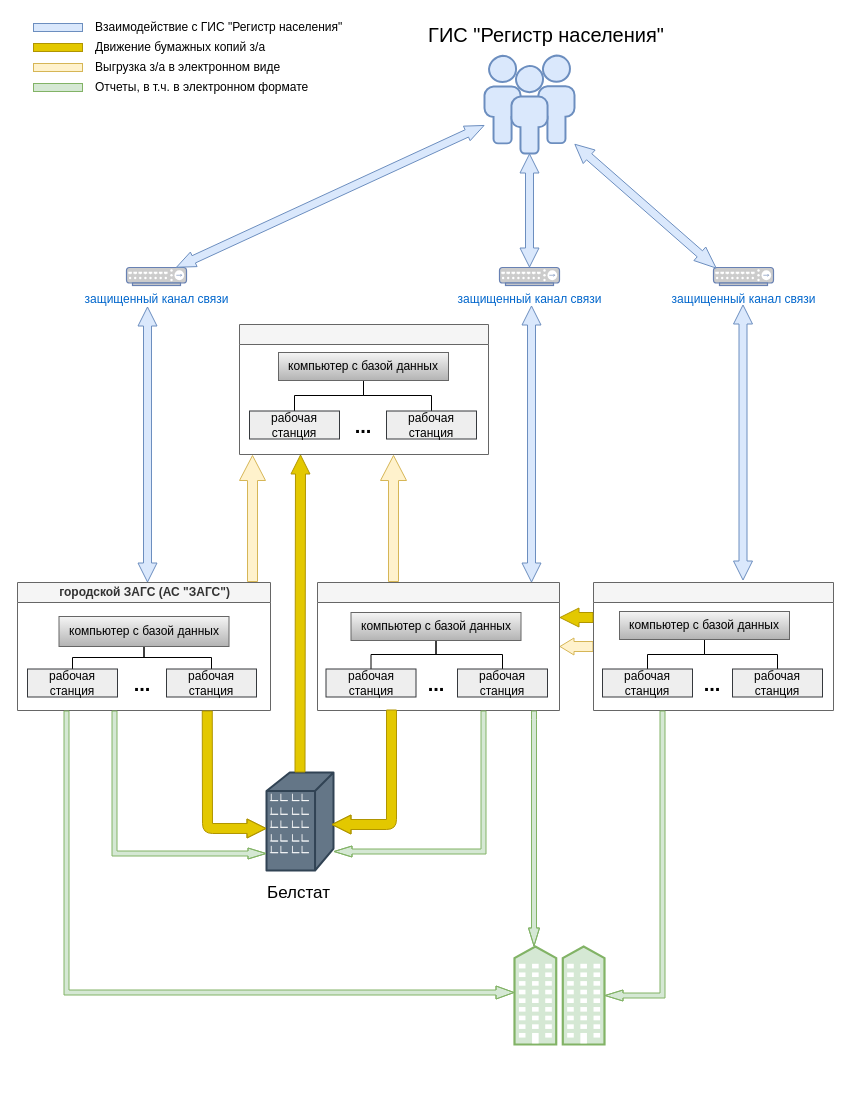
The diagram is 851 pixels wide and 1099 high, and some of its shapes have lost their labels. Each missing label, with the box of its shape:
Белгосстах РОВД Военкомат Фонд социальной защиты: (513, 945, 605, 1045)
областной архив ЗАГС (АС "ЗАГС"): (238, 324, 488, 454)
районный ЗАГС (АС "ЗАГС"): (316, 582, 560, 710)
сельисполком (АС "ЛАИС+"): (592, 582, 834, 710)
